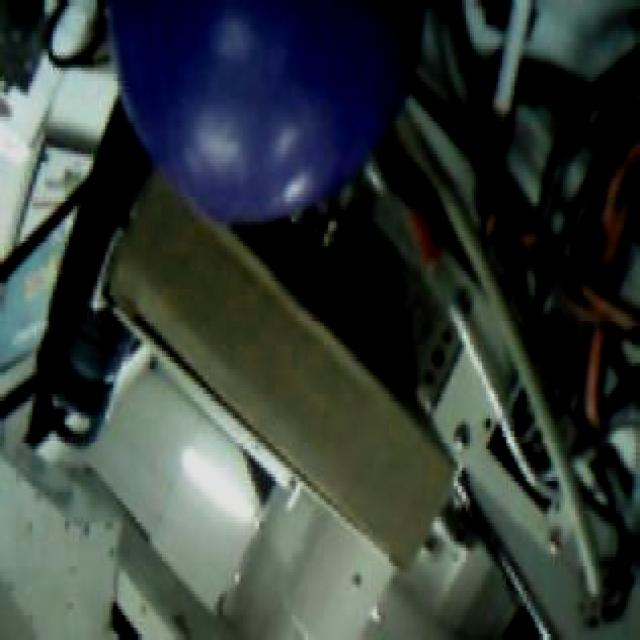BallPurple: (106, 0, 422, 220)
